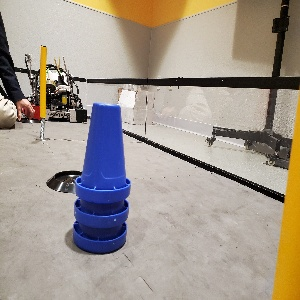Blue_3: (71, 101, 130, 253)
